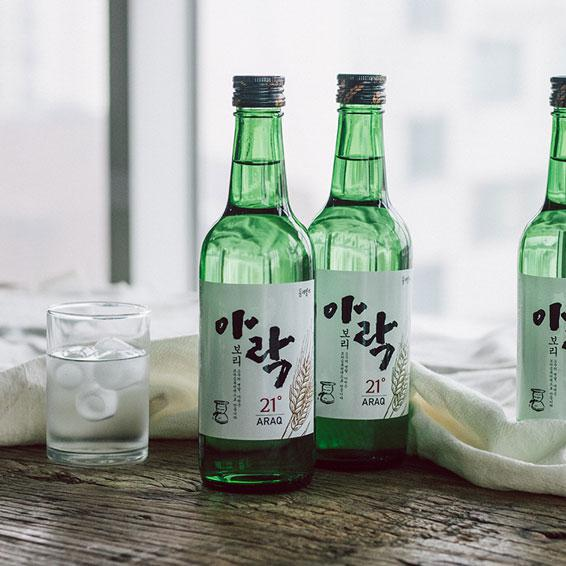soju: (193, 71, 421, 489), (514, 73, 566, 426)
